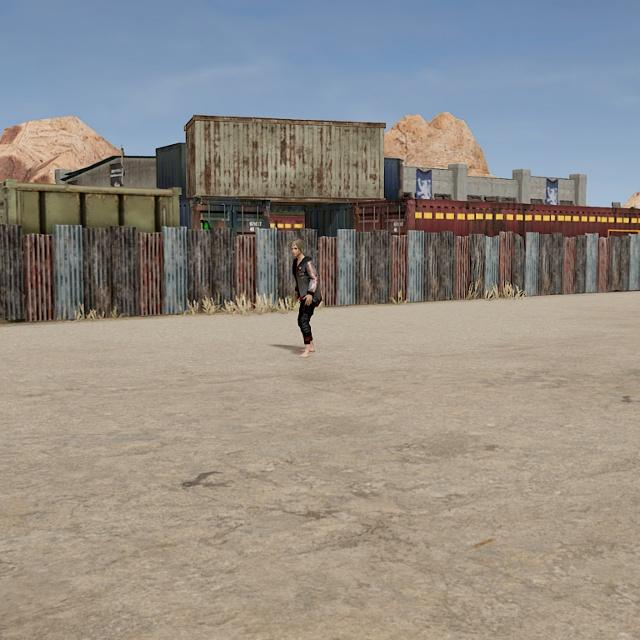head: (289, 240, 308, 258)
people: (288, 239, 324, 359)
